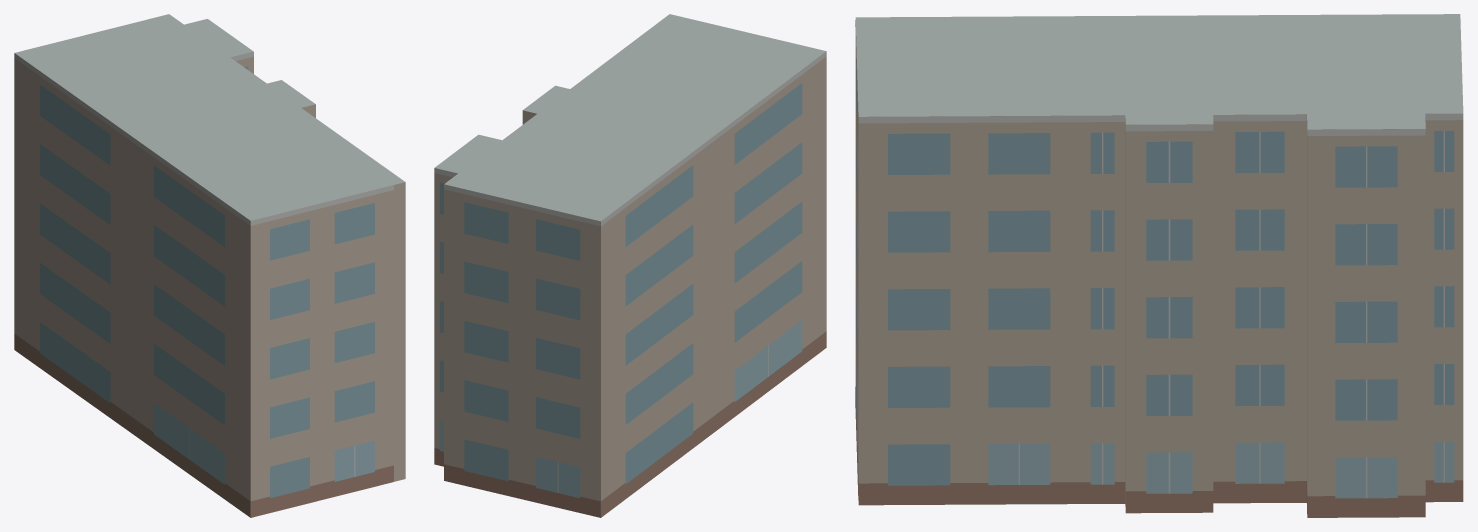
Rendered from survey-upis-32579437.glb.
3 views of the same model, side by side, from view 1: azimuth 30°, elevation 25°; view 2: azimuth 150°, elevation 25°; view 3: azimuth 270°, elevation 25° (orthographic). The views are drawn at different scales.
Parts seen in each view (by area): view 1: survey-upis-32579437.tmp; view 2: survey-upis-32579437.tmp; view 3: survey-upis-32579437.tmp.
Part boxes in pixels (bbox=[...]): survey-upis-32579437.tmp: bbox=[14, 14, 405, 517]; survey-upis-32579437.tmp: bbox=[434, 14, 826, 517]; survey-upis-32579437.tmp: bbox=[855, 14, 1463, 517].
Bounding box in the file's own units: 9.2 × 14.4 × 20.44.
